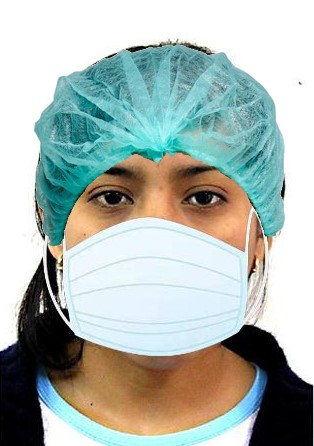with_mask_and_cap: (38, 48, 271, 361)
